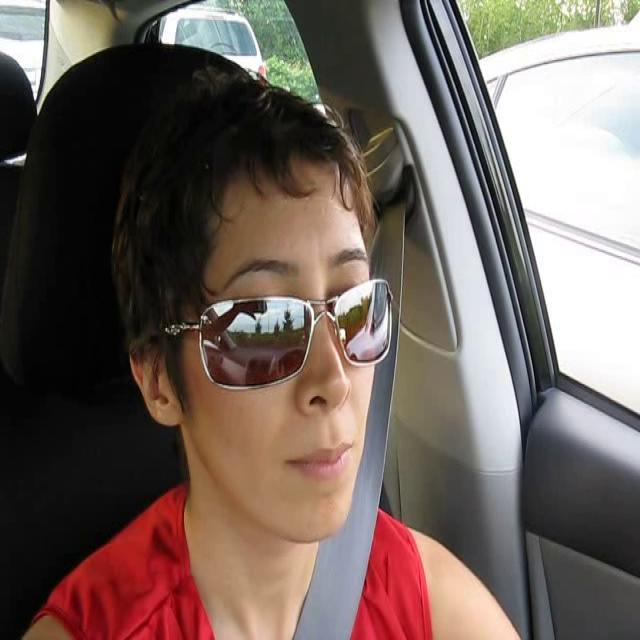close: (286, 438, 358, 486)
